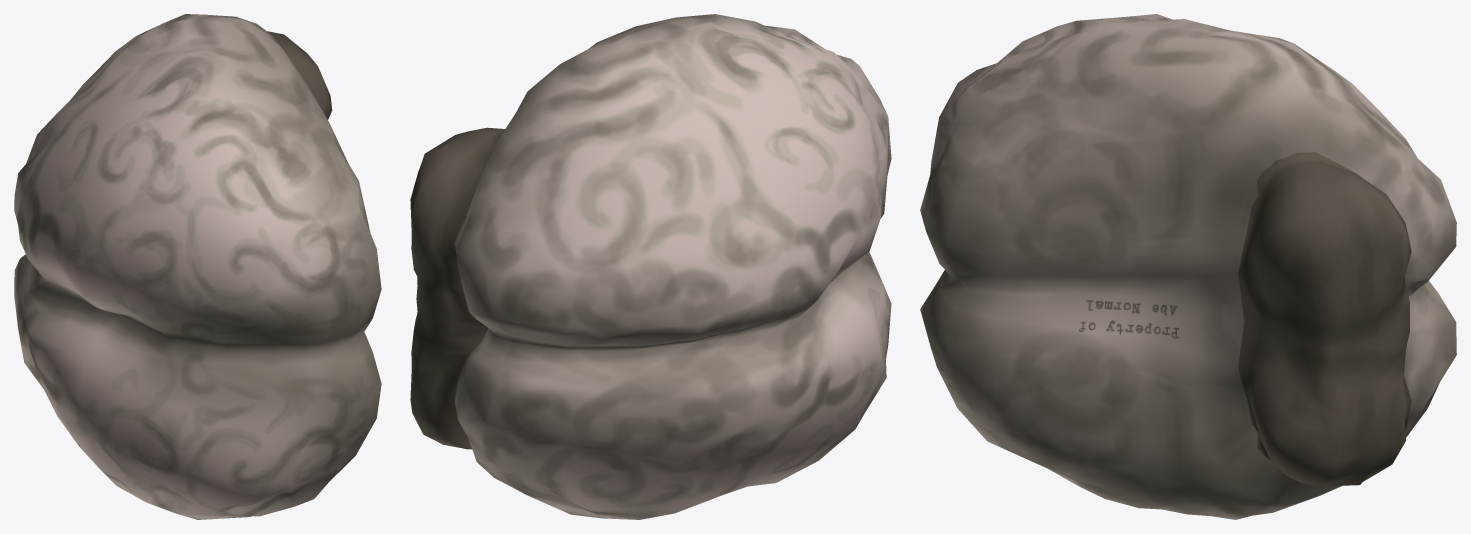
The model's file is SM_ZombieProjectile.fbx.
The picture shows the model from 3 angles, left to right: view 1: azimuth 30°, elevation 25°; view 2: azimuth 150°, elevation 25°; view 3: azimuth 270°, elevation 25°; orthographic projection. The views are drawn at different scales.
Parts seen in each view (by area): view 1: SM_ZombieProjectile; view 2: SM_ZombieProjectile; view 3: SM_ZombieProjectile.
Boxes of the visible parts, x1,y1,x2,y2 form: SM_ZombieProjectile: [14, 14, 381, 519]; SM_ZombieProjectile: [410, 14, 891, 519]; SM_ZombieProjectile: [920, 14, 1456, 519].
Bounding box in the file's own units: 14.77 × 18.9 × 18.4.
Materials: 1 (1 with a texture image).
